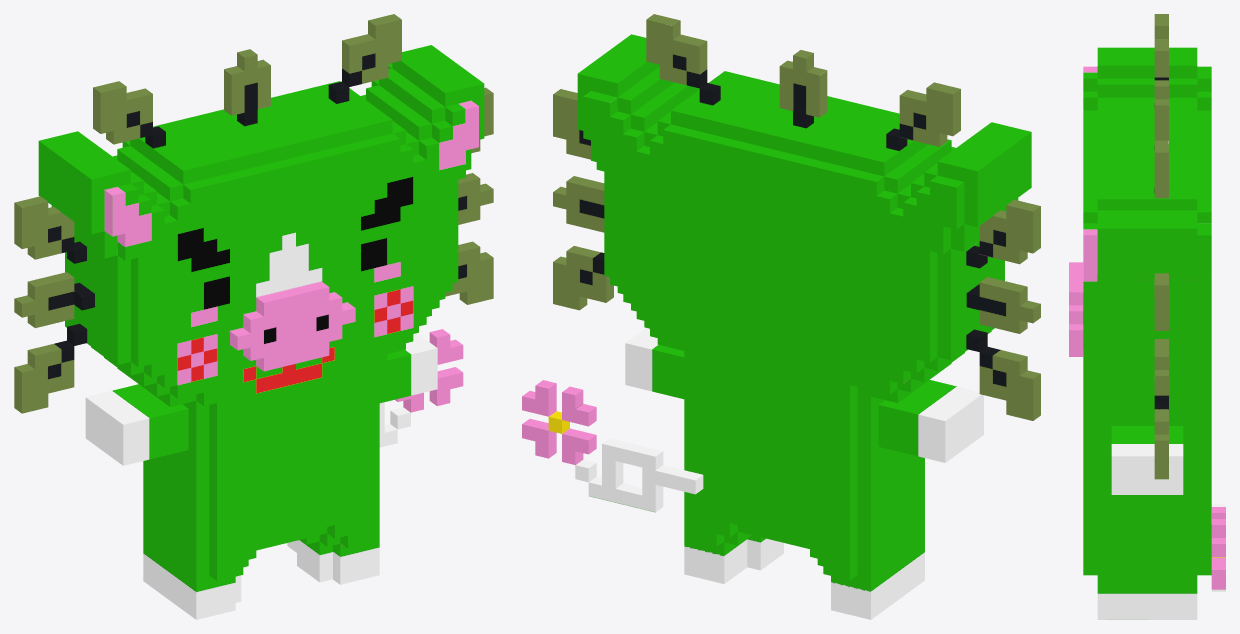
Rendered from guribu.glb.
3 renders of one model, left to right at view 1: azimuth 30°, elevation 25°; view 2: azimuth 150°, elevation 25°; view 3: azimuth 270°, elevation 25°, orthographic. The views are drawn at different scales.
Visible parts, largest first — view 1: guribu; view 2: guribu; view 3: guribu.
Part boxes in pixels (box(x1,y1,x2,y2)): guribu: box(14, 14, 493, 619); guribu: box(522, 14, 1040, 619); guribu: box(1069, 14, 1225, 619).
Bounding box in the file's own units: 0.72 × 0.76 × 0.22.
Materials: 1 (1 with a texture image).
